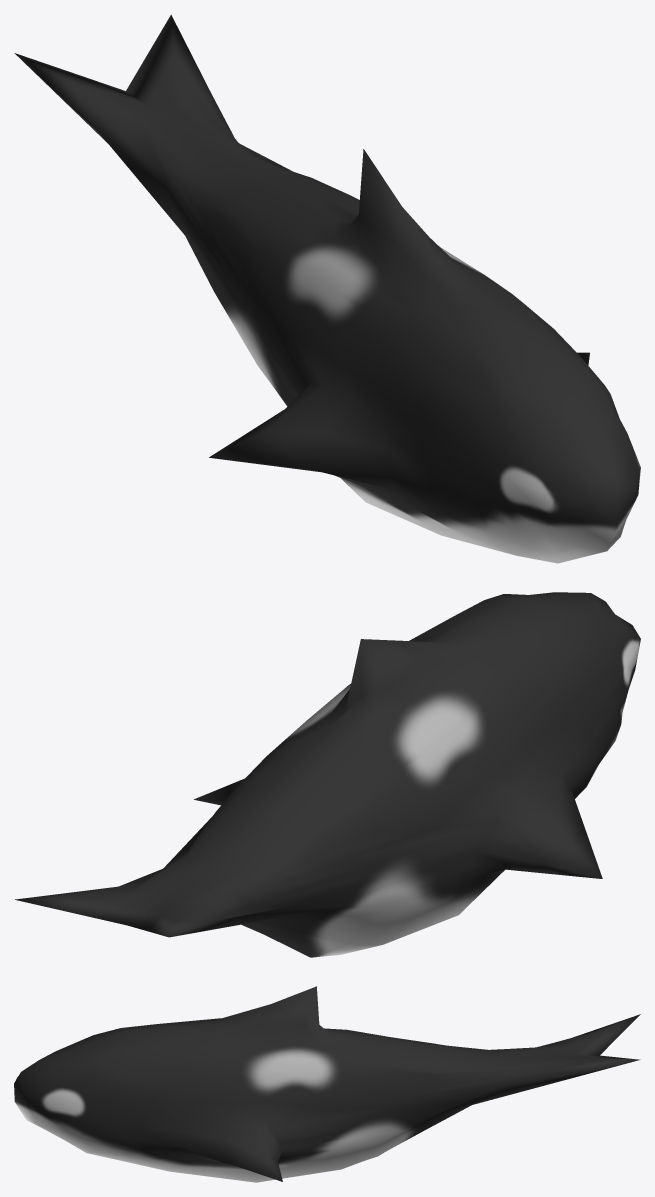
The model's file is orca.glb.
The picture shows the model from 3 angles, top to bottom: view 1: azimuth 30°, elevation 25°; view 2: azimuth 150°, elevation 25°; view 3: azimuth 270°, elevation 25°; orthographic projection. The views are drawn at different scales.
Visible parts, largest first — view 1: Cube; view 2: Cube; view 3: Cube.
Boxes of the visible parts, x1,y1,x2,y2 form: Cube: (14, 14, 640, 563); Cube: (15, 592, 640, 957); Cube: (14, 986, 640, 1182).
Bounding box in the file's own units: 1.38 × 1.06 × 3.15.
Materials: 1 (1 with a texture image).
